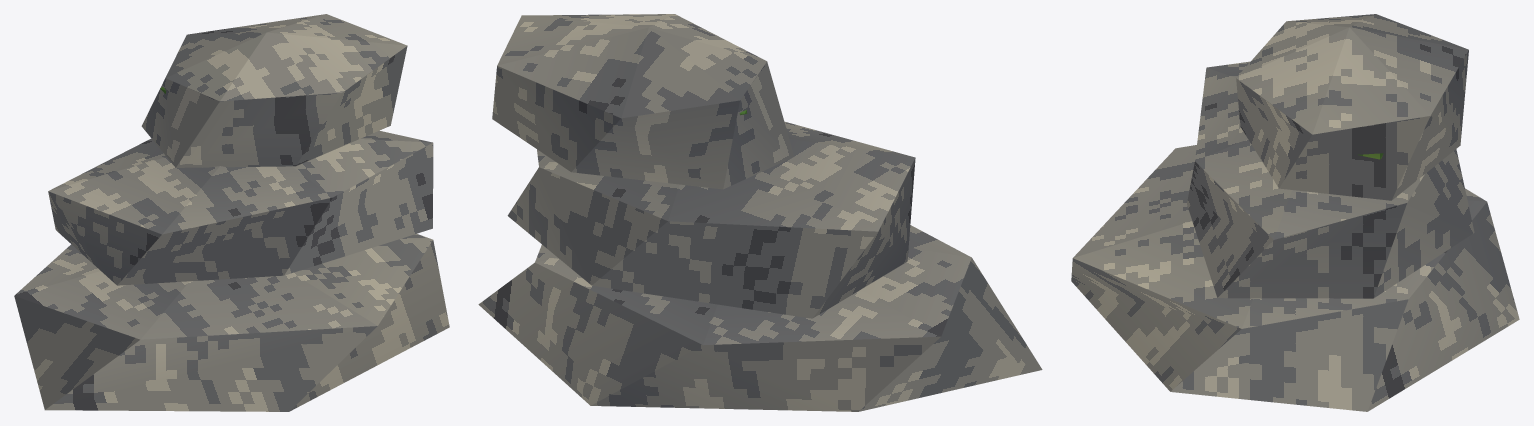
The model's file is mnat.rock__outcrop.glb.
3 views of the same model, side by side, from view 1: azimuth 30°, elevation 25°; view 2: azimuth 150°, elevation 25°; view 3: azimuth 270°, elevation 25° (orthographic). The views are drawn at different scales.
Visible parts, largest first — view 1: kit_rock; view 2: kit_rock; view 3: kit_rock.
Boxes of the visible parts, left/top/right/bottom form: kit_rock: left=14, top=14, right=449, bottom=411; kit_rock: left=478, top=14, right=1042, bottom=411; kit_rock: left=1071, top=14, right=1519, bottom=411.
Size of the model in its own units: 3.09 by 2.1 by 2.48.
Materials: 2 (2 with a texture image).
